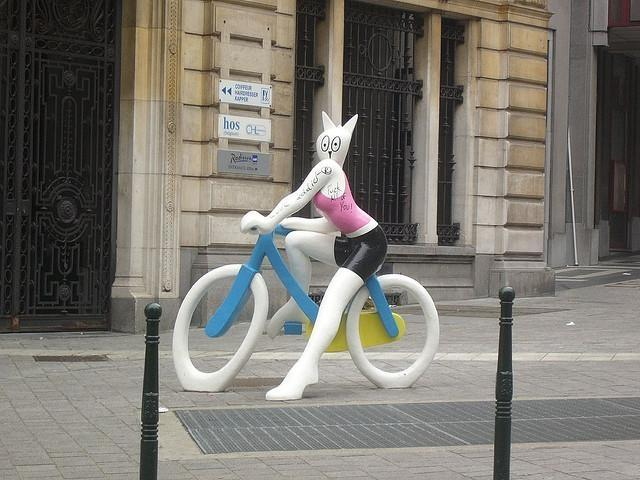bicycle: (171, 219, 441, 403)
